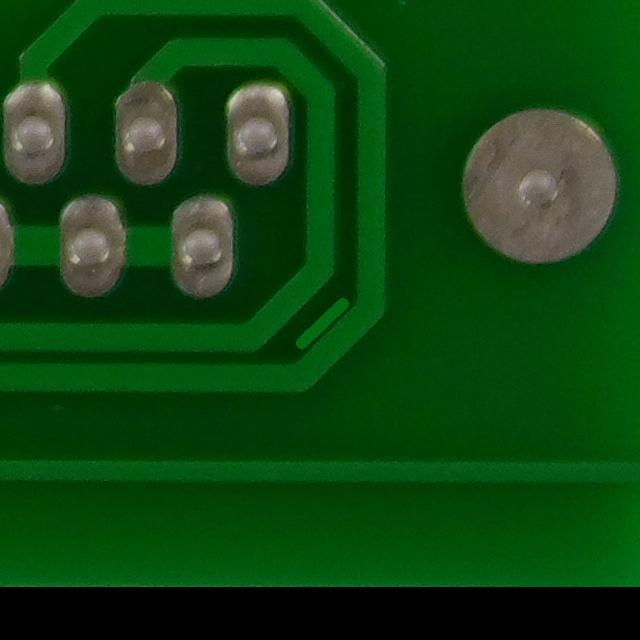spurious_copper: (270, 280, 371, 360)
